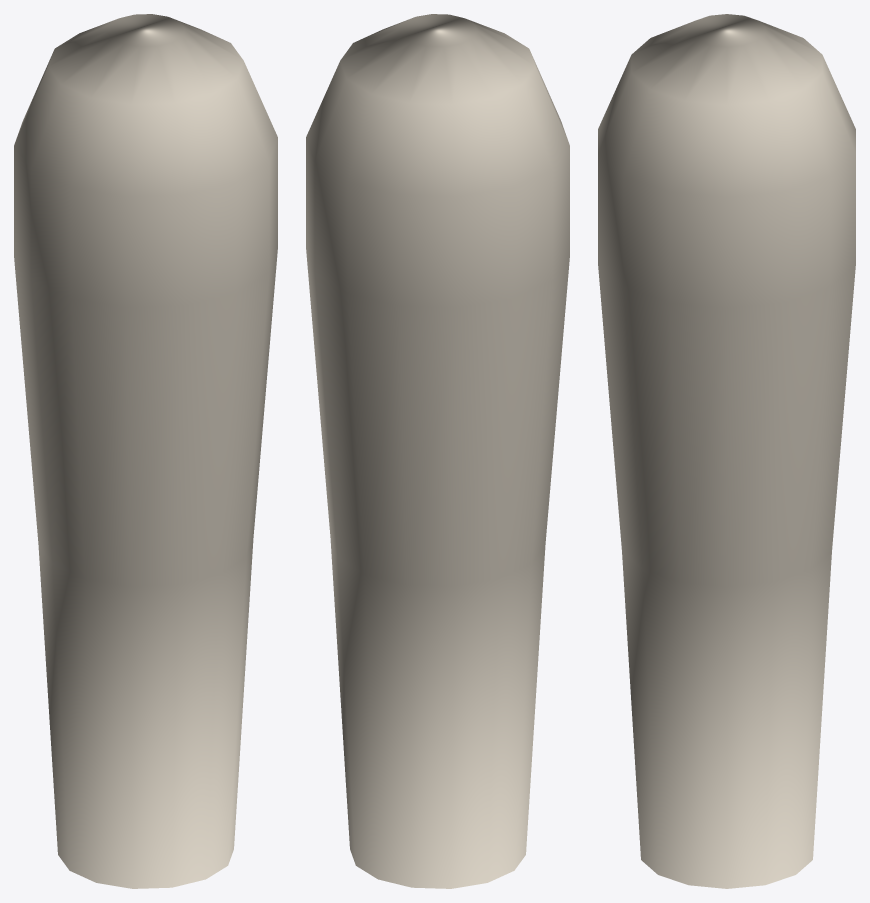
Rendered from anime_upper_arm.glb.
3 views of the same model, side by side, from view 1: azimuth 30°, elevation 25°; view 2: azimuth 150°, elevation 25°; view 3: azimuth 270°, elevation 25° (orthographic).
Parts seen in each view (by area): view 1: upper; view 2: upper; view 3: upper.
Boxes of the visible parts, bbox=[...] form: upper: bbox=[14, 14, 277, 888]; upper: bbox=[306, 14, 569, 888]; upper: bbox=[598, 14, 855, 888].
Size of the model in its own units: 0.108 by 0.37 by 0.1053.
